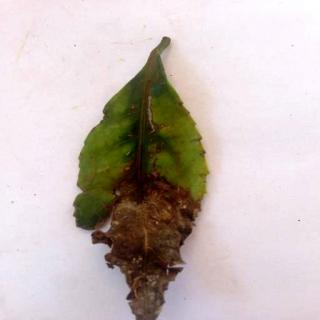Brown Blight: (74, 37, 211, 320)
